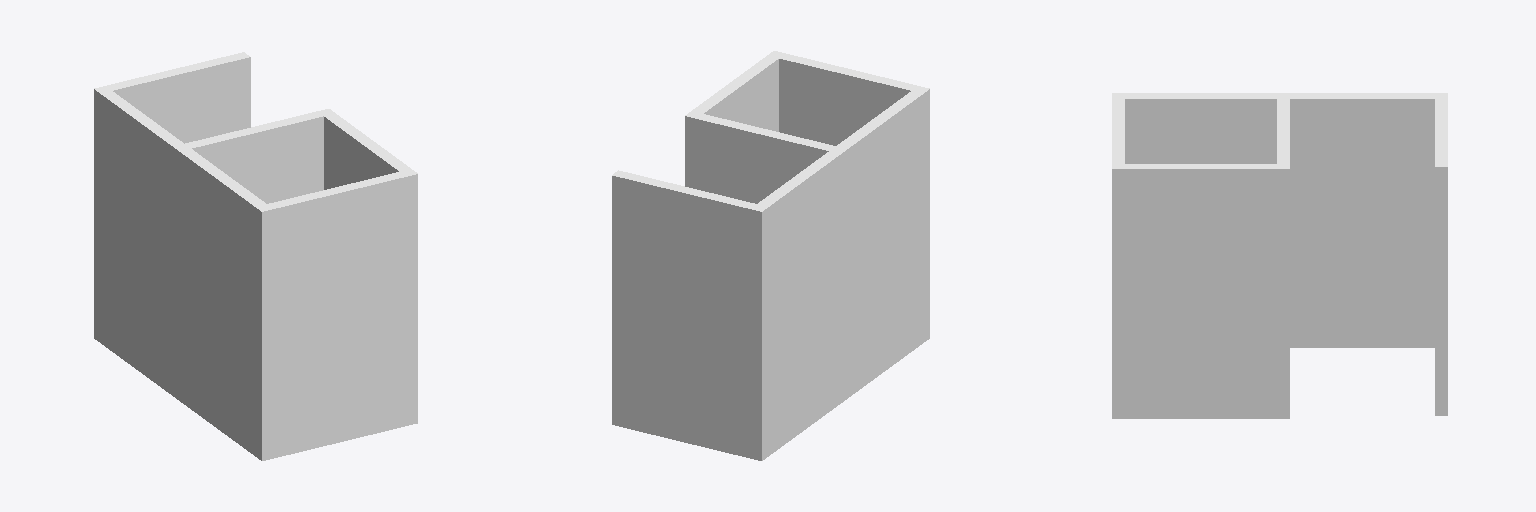
The picture shows the model from 3 angles: view 1: azimuth 30°, elevation 25°; view 2: azimuth 150°, elevation 25°; view 3: azimuth 270°, elevation 25°; orthographic projection.
Parts seen in each view (by area): view 1: wall_2_10, wall_3_16, wall_1_3, wall_5_27, wall_4_21, wall_2_12, wall_2_11; view 2: wall_2_10, wall_1_4, wall_5_28, wall_3_15, wall_4_21, wall_2_12, wall_2_11; view 3: wall_2_9, wall_4_22, wall_1_3, wall_1_4, wall_2_12, wall_2_11.
Part boxes in pixels (bbox=[...]): wall_2_10: bbox=[94, 89, 261, 460]; wall_3_16: bbox=[262, 174, 417, 460]; wall_1_3: bbox=[113, 57, 250, 143]; wall_5_27: bbox=[192, 116, 323, 203]; wall_4_21: bbox=[324, 117, 398, 189]; wall_2_12: bbox=[95, 89, 263, 211]; wall_2_11: bbox=[104, 90, 266, 207]; wall_2_10: bbox=[762, 89, 929, 460]; wall_1_4: bbox=[612, 176, 761, 460]; wall_5_28: bbox=[685, 116, 828, 203]; wall_3_15: bbox=[779, 59, 910, 145]; wall_4_21: bbox=[704, 59, 778, 131]; wall_2_12: bbox=[760, 89, 928, 211]; wall_2_11: bbox=[757, 90, 919, 207]; wall_2_9: bbox=[1125, 99, 1434, 347]; wall_4_22: bbox=[1112, 169, 1289, 418]; wall_1_3: bbox=[1435, 167, 1441, 415]; wall_1_4: bbox=[1442, 167, 1447, 415]; wall_2_12: bbox=[1112, 93, 1447, 95]; wall_2_11: bbox=[1120, 96, 1439, 98].
Size of the model in its own units: 100 by 152 by 187.